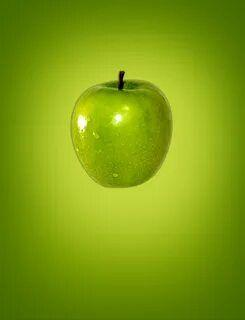Apple: (71, 80, 173, 187)
